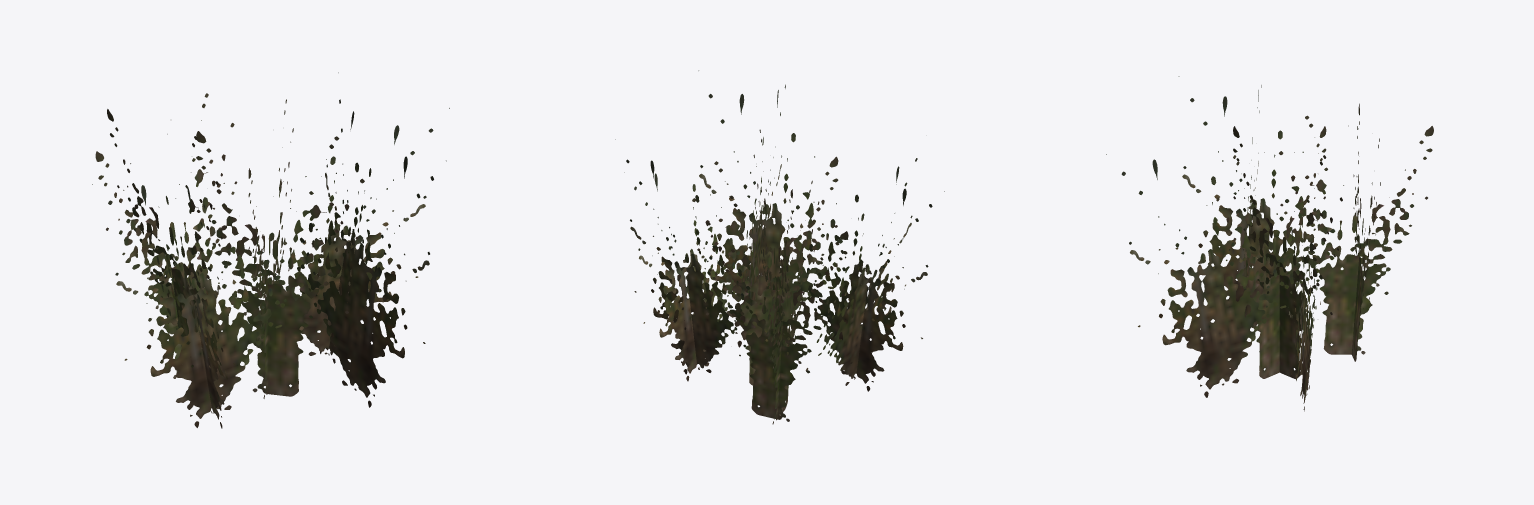
The model's file is GrassPatch01a.obj.
3 renders of one model, left to right at view 1: azimuth 30°, elevation 25°; view 2: azimuth 150°, elevation 25°; view 3: azimuth 270°, elevation 25°, orthographic. The views are drawn at different scales.
Parts seen in each view (by area): view 1: GrassPatch01a; view 2: GrassPatch01a; view 3: GrassPatch01a.
Part boxes in pixels (box(x1,y1,x2,y2)): GrassPatch01a: box(92, 72, 449, 428); GrassPatch01a: box(615, 70, 944, 424); GrassPatch01a: box(1106, 76, 1433, 411).
Size of the model in its own units: 1.75 by 1.22 by 1.61.
